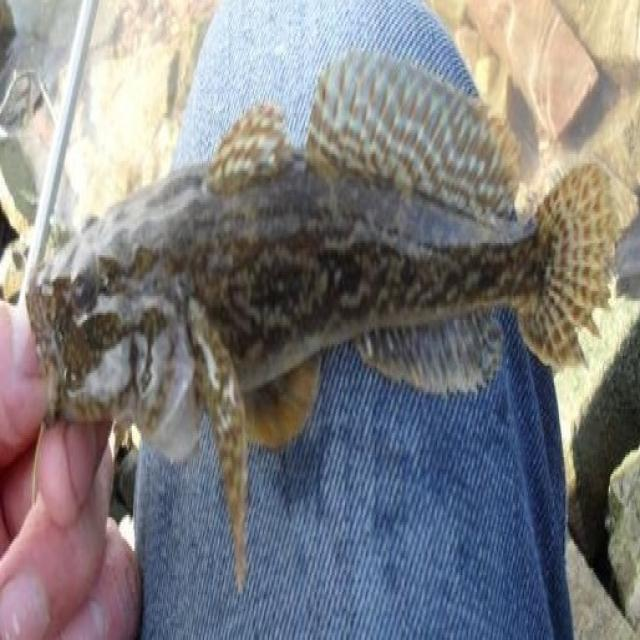Goby: (20, 48, 611, 541)
